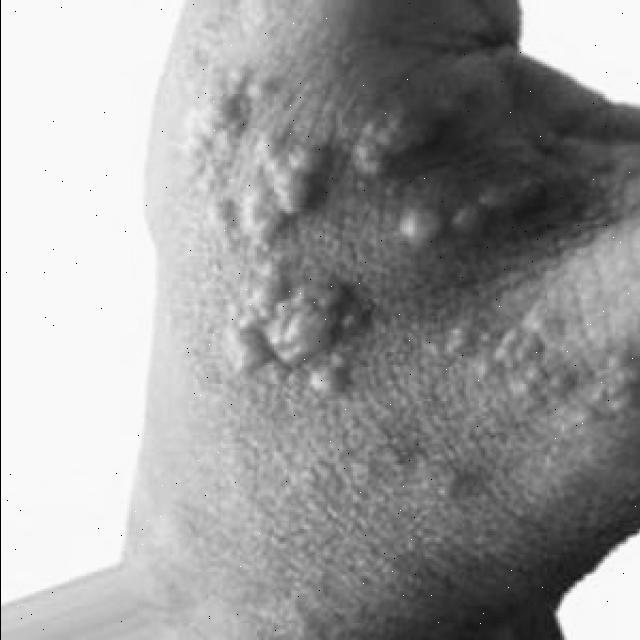Shingles: (184, 64, 366, 397), (415, 315, 640, 415), (382, 178, 544, 236), (349, 92, 448, 174)
